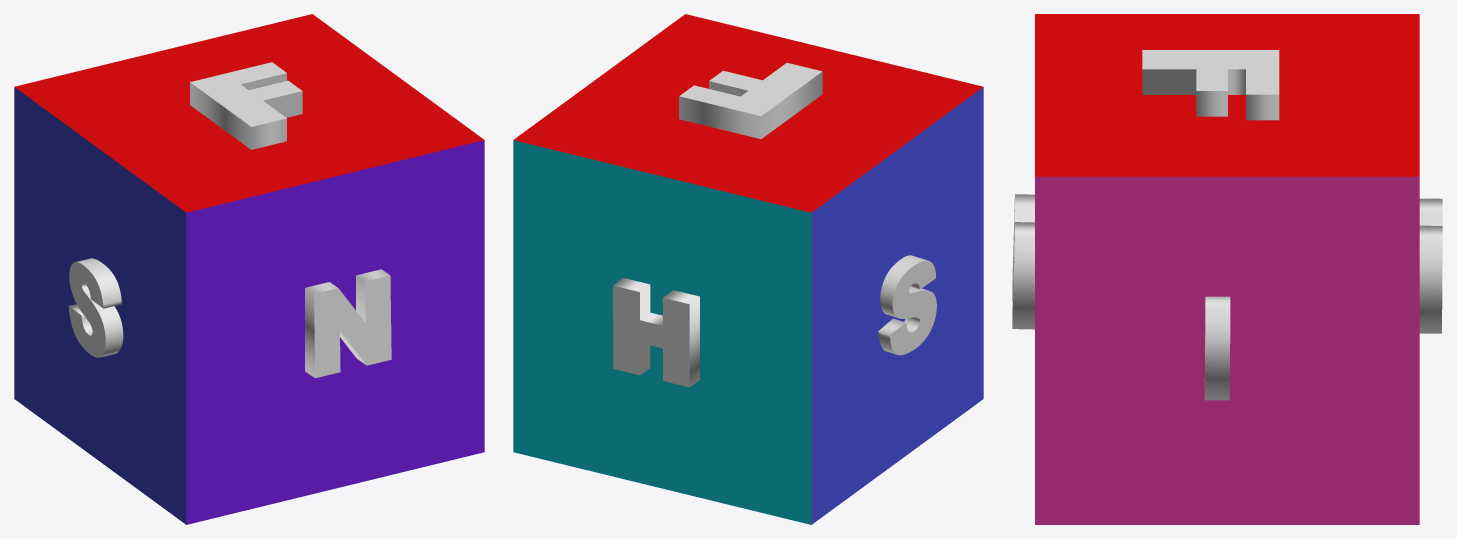
File: letters-cube.fbx
The picture shows the model from 3 angles, left to right: view 1: azimuth 30°, elevation 25°; view 2: azimuth 150°, elevation 25°; view 3: azimuth 270°, elevation 25°; orthographic projection. The views are drawn at different scales.
Visible parts, largest first — view 1: Cube, N, F, Text; view 2: Cube, H, F, Text; view 3: Cube, F, H, N, I.001.
Part boxes in pixels (x1,y1,x2,y2): Cube: (14, 14, 484, 524); N: (305, 269, 391, 378); F: (190, 62, 302, 149); Text: (68, 258, 123, 357); Cube: (513, 14, 983, 524); H: (613, 278, 699, 387); F: (679, 63, 822, 138); Text: (878, 255, 936, 355); Cube: (1035, 14, 1419, 524); F: (1142, 50, 1279, 120); H: (1419, 198, 1442, 333); N: (1012, 194, 1034, 329); I.001: (1204, 296, 1230, 400).
Bounding box in the file's own units: 225 × 226 × 224.
